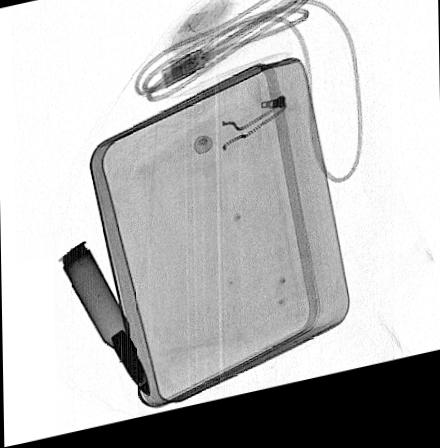Bullet: (56, 244, 150, 404)
